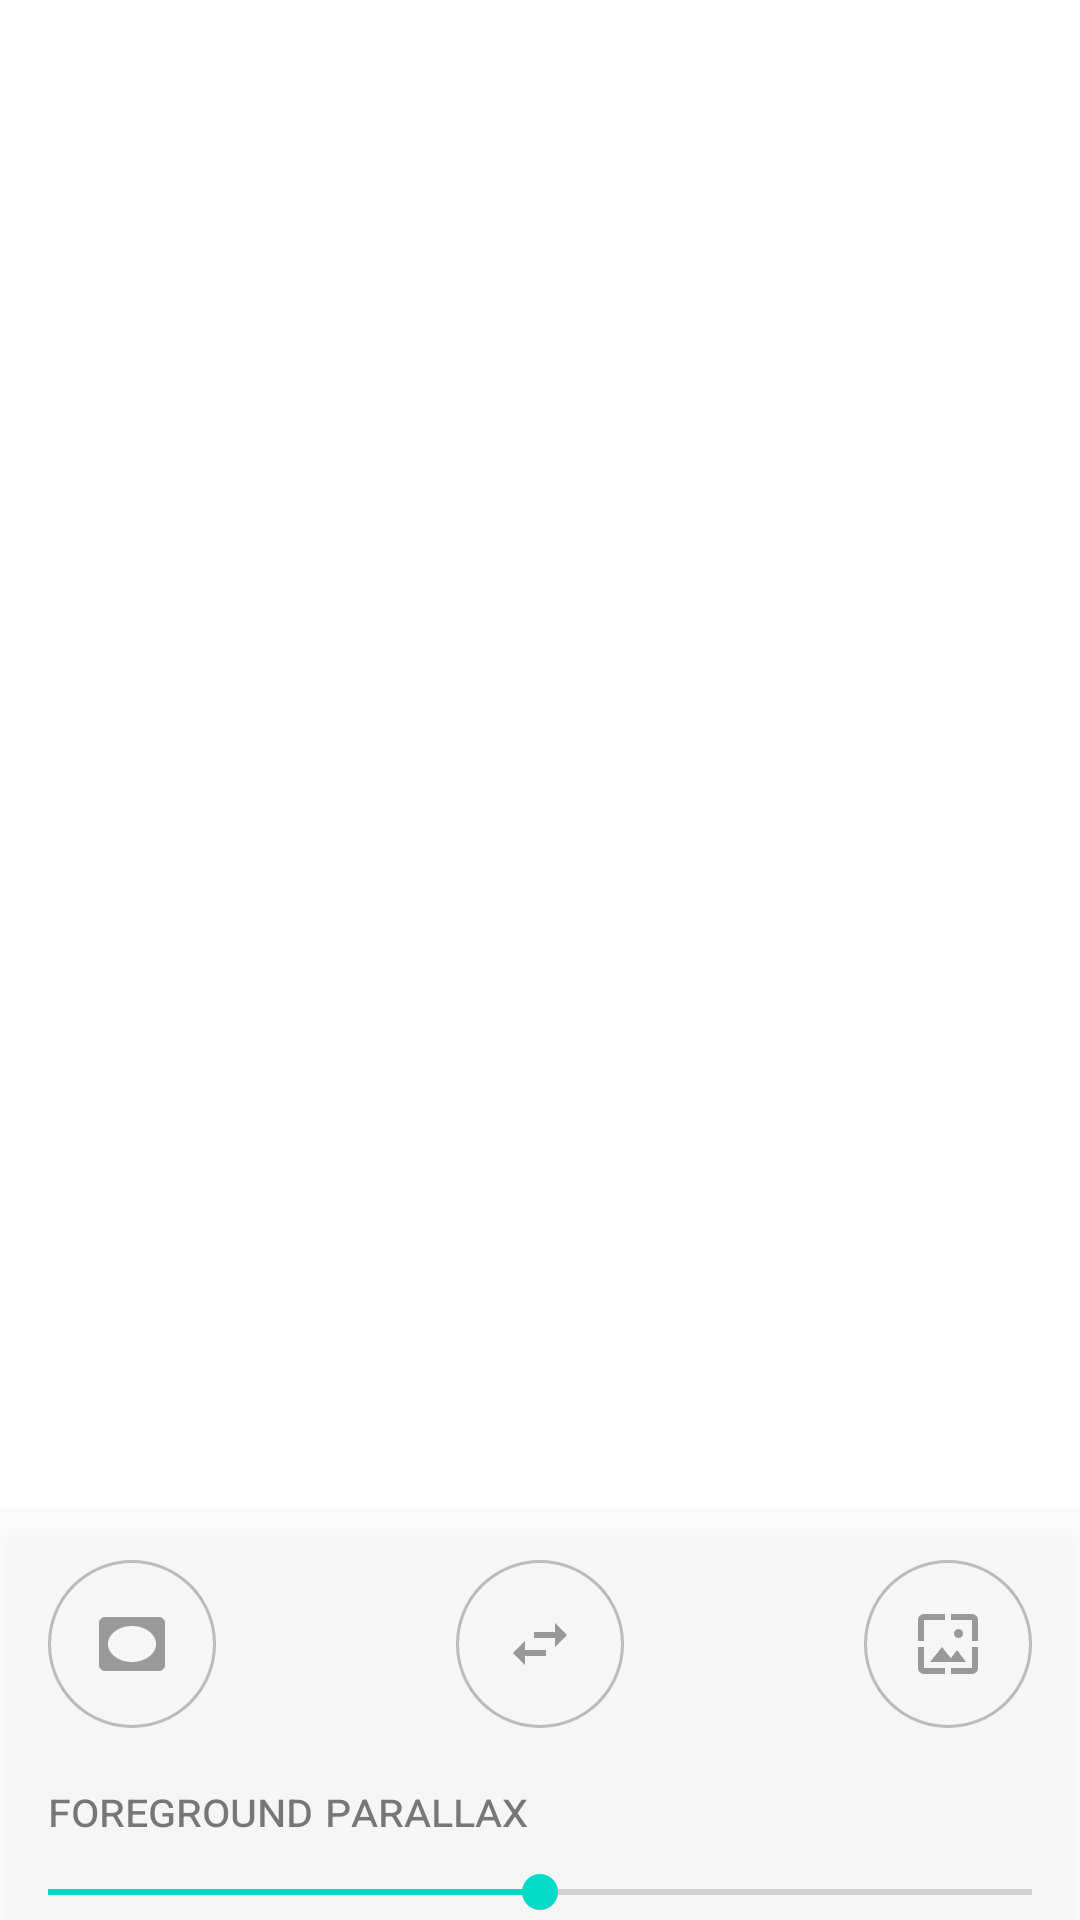

Named icons in this screenshot (1080x1920) and their centers, (x,y):
horizontal: (540,1644)
